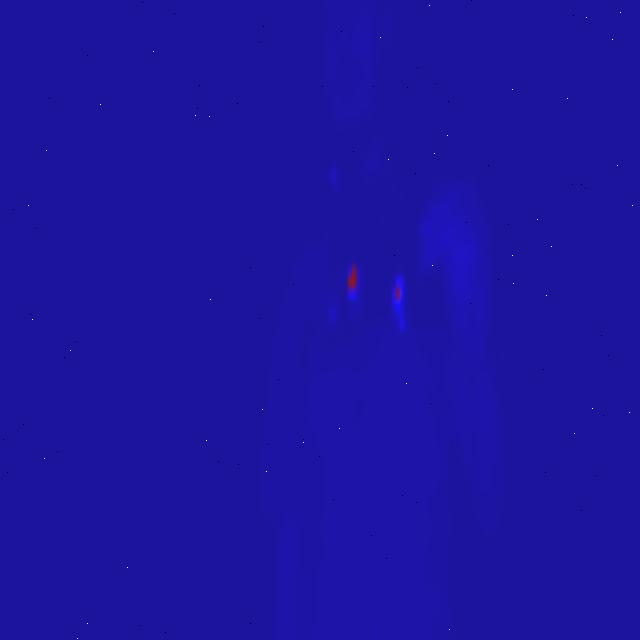rectangle: (296, 158, 432, 328)
